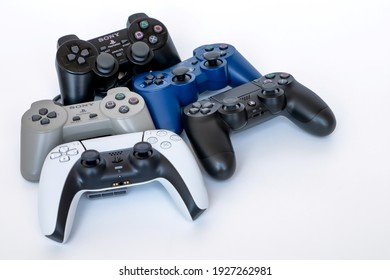gamingconsole: (39, 131, 209, 245)
